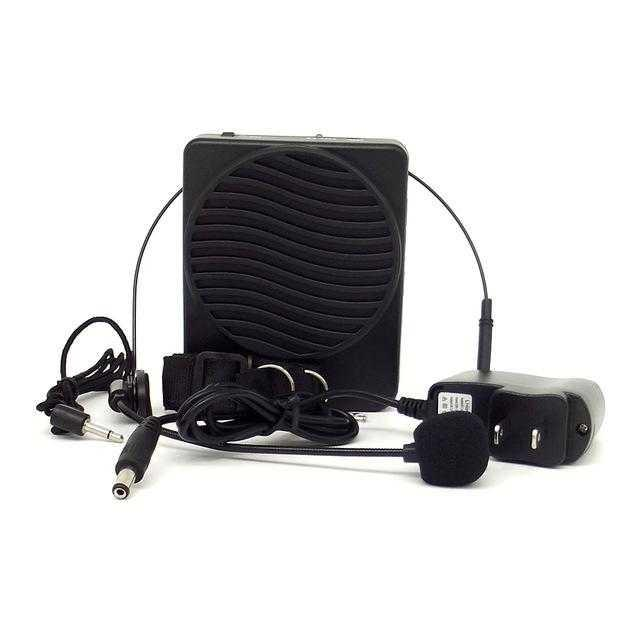microphone: (400, 407, 499, 494)
